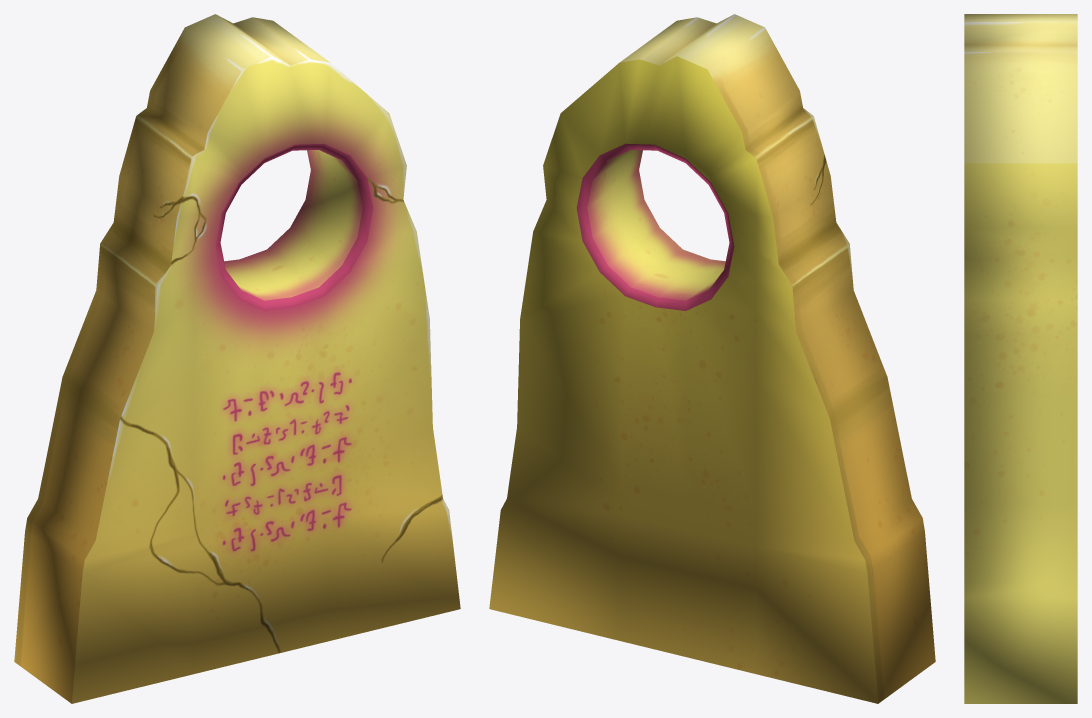
File: tablet_round.fbx
3 renders of one model, left to right at view 1: azimuth 30°, elevation 25°; view 2: azimuth 150°, elevation 25°; view 3: azimuth 270°, elevation 25°, orthographic.
Parts seen in each view (by area): view 1: RoundTablet; view 2: RoundTablet; view 3: RoundTablet.
Boxes of the visible parts, <box> form: RoundTablet: <box>14,14,460,703</box>; RoundTablet: <box>489,14,935,703</box>; RoundTablet: <box>964,14,1077,703</box>.
Bounding box in the file's own units: 227 × 334 × 58.13.
